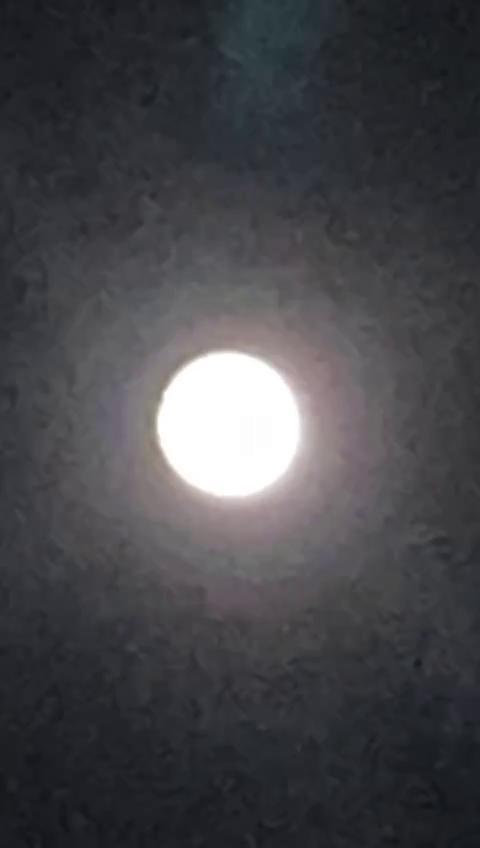moon: (137, 345, 308, 536)
